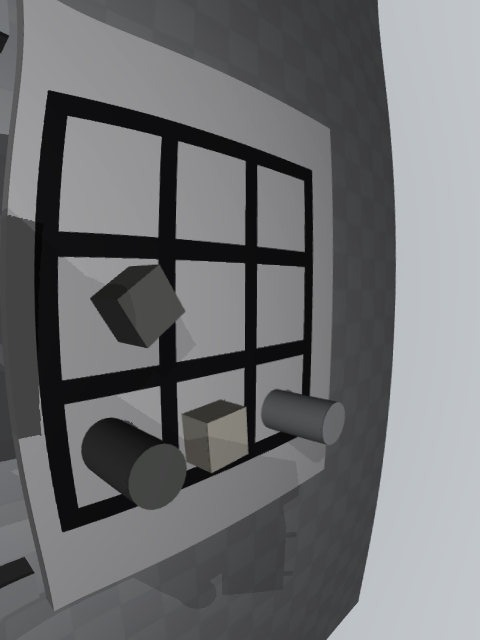can: (262, 389, 345, 445)
cube: (90, 265, 185, 348)
cylinder: (81, 417, 187, 510)
foam: (181, 399, 249, 473)
